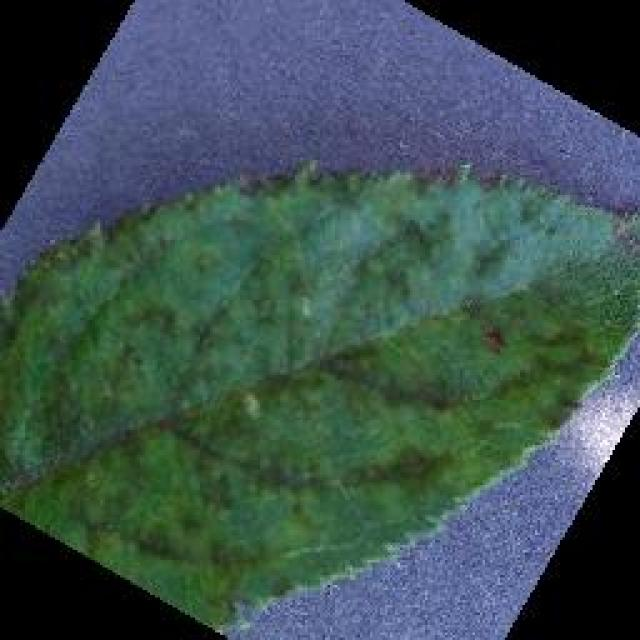apple scab disease: (0, 155, 638, 635)
